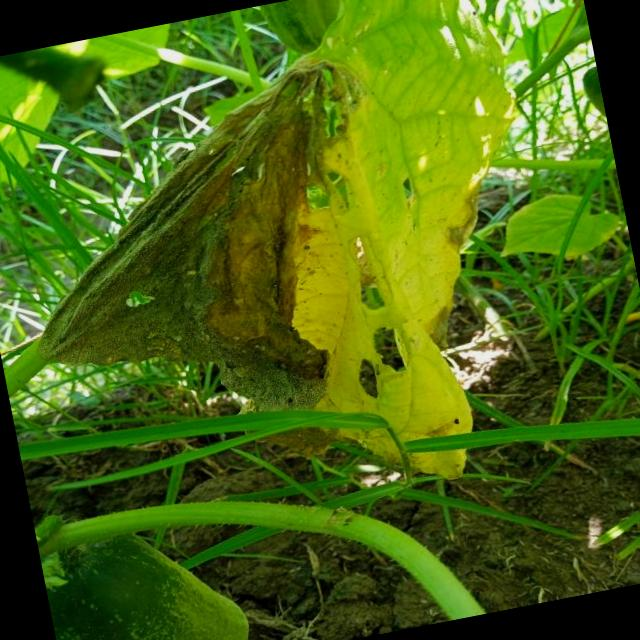cucumber_gummy: (0, 0, 607, 557)
